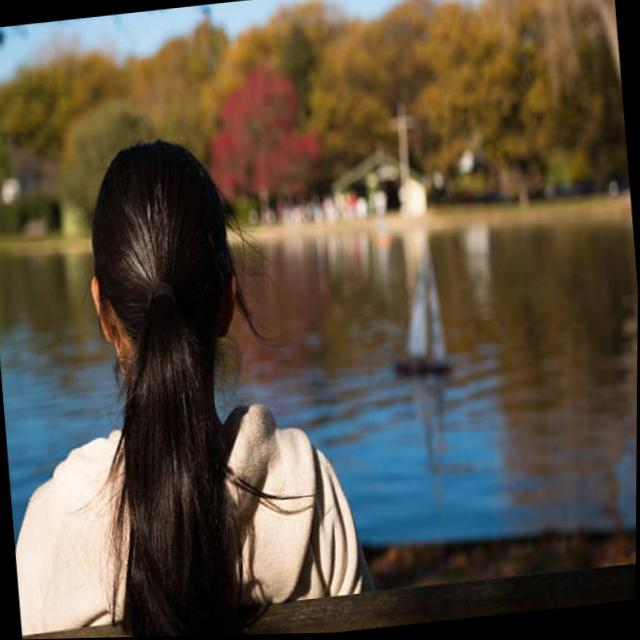no helmet: (77, 133, 252, 446)
